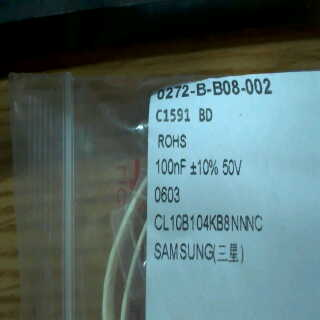100nF: (154, 154, 187, 178)
